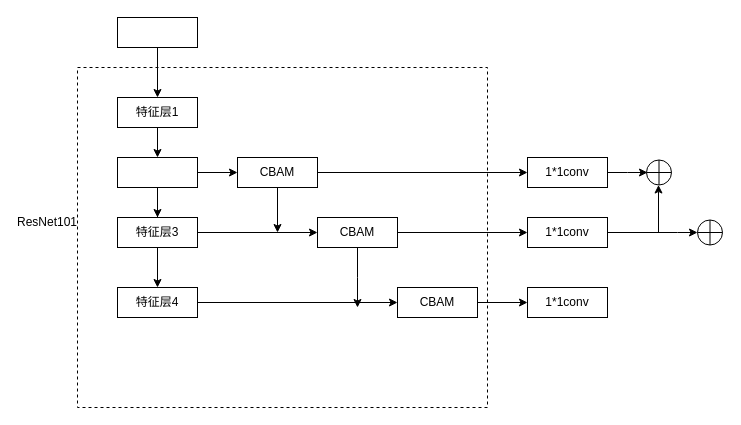
This 741x425 diagram has some shape labels left out. Each missing label, with the box of its shape:
初始层: (116, 16, 198, 48)
特征层2: (116, 156, 198, 188)
